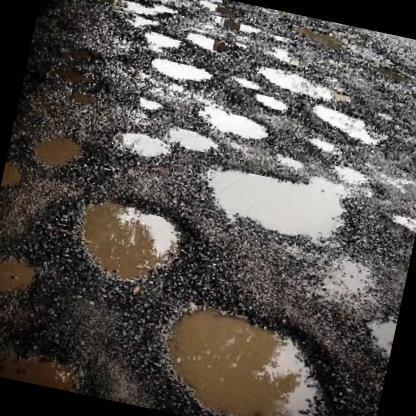pothole: (166, 297, 326, 416), (200, 166, 378, 236), (78, 192, 203, 280), (0, 324, 96, 402), (283, 240, 384, 312), (113, 124, 217, 167), (58, 44, 112, 113), (309, 100, 382, 146), (257, 61, 342, 100), (199, 98, 268, 145), (29, 126, 96, 172), (235, 23, 290, 64), (0, 248, 49, 294), (115, 0, 183, 31), (147, 56, 213, 86), (298, 22, 357, 55), (362, 312, 404, 354), (360, 64, 416, 89), (144, 27, 180, 52), (186, 28, 220, 54), (0, 157, 23, 193), (274, 152, 307, 173)
